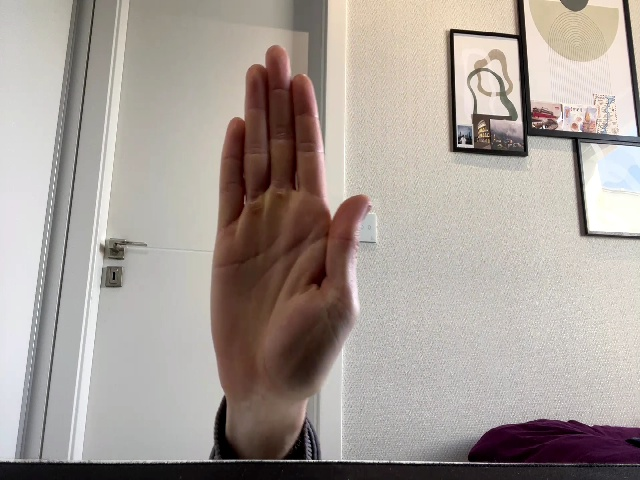B: (210, 45, 372, 399)
